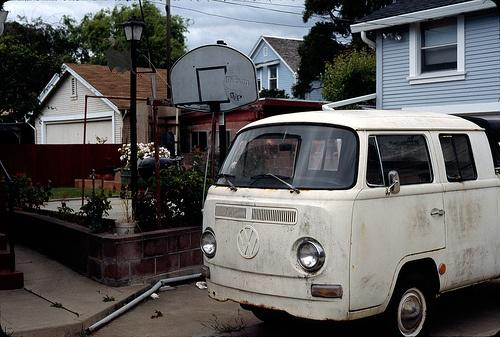tampered: (106, 39, 160, 77)
